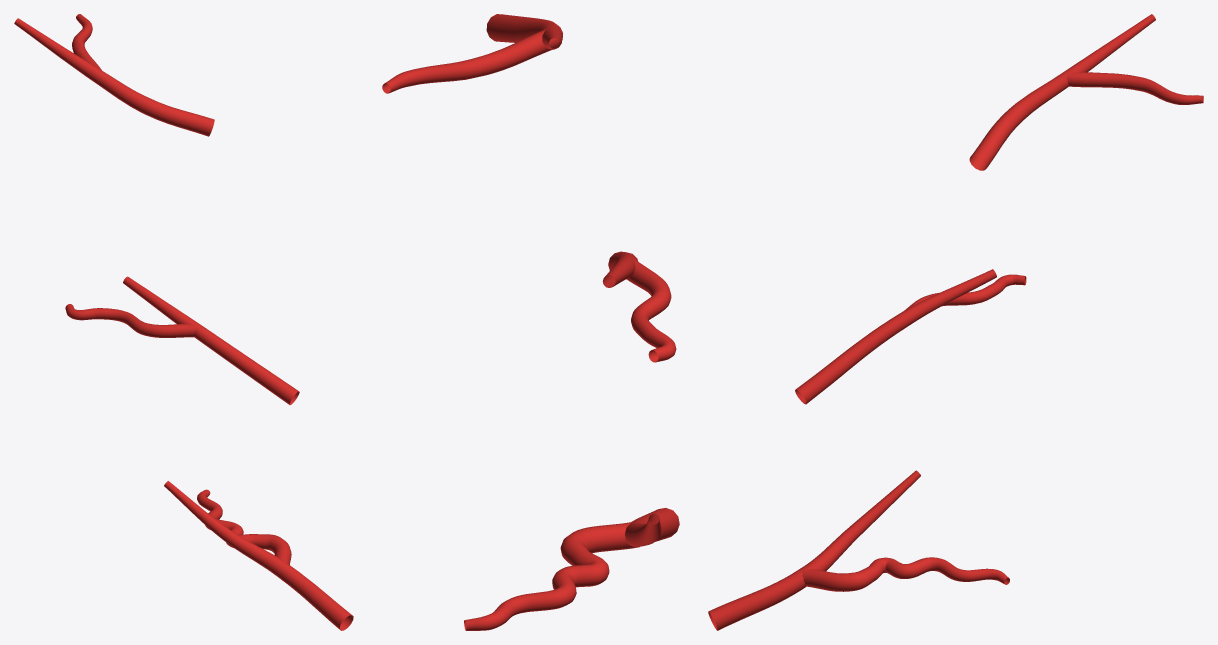
Rendered from circulatorio-septal-branches-of-anterior-interventricular-artery.glb.
3 renders of one model, left to right at view 1: azimuth 30°, elevation 25°; view 2: azimuth 150°, elevation 25°; view 3: azimuth 270°, elevation 25°, orthographic. The views are drawn at different scales.
Parts seen in each view (by area): view 1: Septal branches of anterior interventricular artery; view 2: Septal branches of anterior interventricular artery; view 3: Septal branches of anterior interventricular artery.
Part boxes in pixels (x1,y1,x2,y2): Septal branches of anterior interventricular artery: (14,14,353,630); Septal branches of anterior interventricular artery: (382,14,679,630); Septal branches of anterior interventricular artery: (708,14,1203,630).
Bounding box in the file's own units: 0.0123 × 0.0391 × 0.0321.
